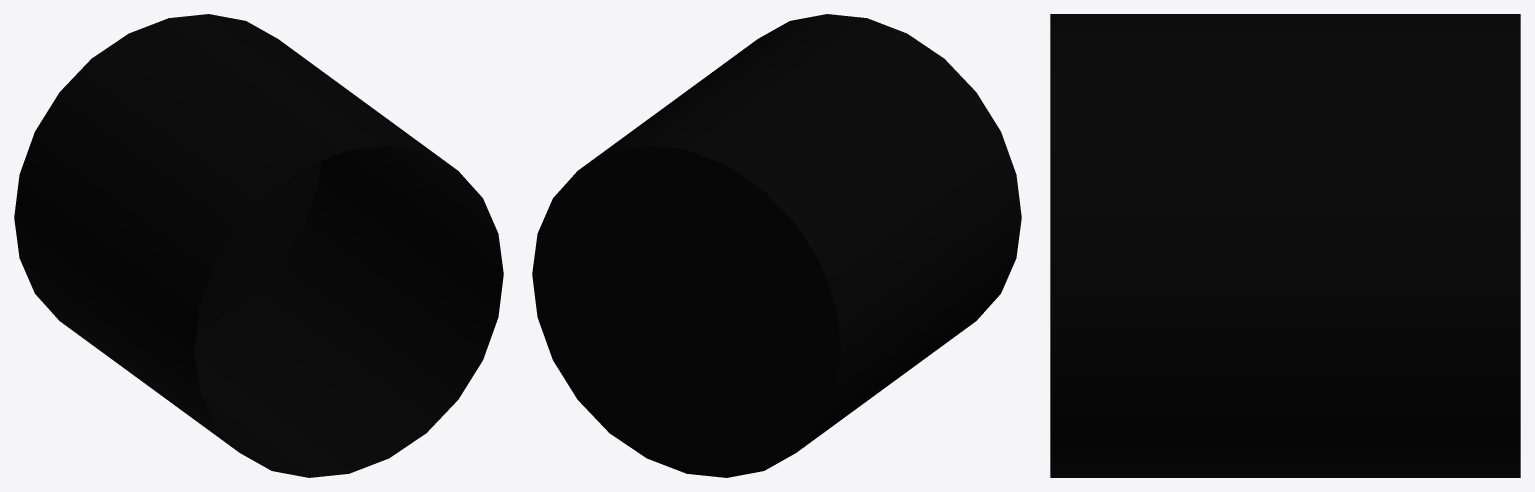
The model's file is PZT.FBX.
3 renders of one model, left to right at view 1: azimuth 30°, elevation 25°; view 2: azimuth 150°, elevation 25°; view 3: azimuth 270°, elevation 25°, orthographic. The views are drawn at different scales.
Visible parts, largest first — view 1: pzt; view 2: pzt; view 3: pzt.
Part boxes in pixels (<box>): pzt: <box>14,14,503,477</box>; pzt: <box>532,14,1021,477</box>; pzt: <box>1050,14,1520,477</box>.
Size of the model in its own units: 2.8 by 2.8 by 2.83.
